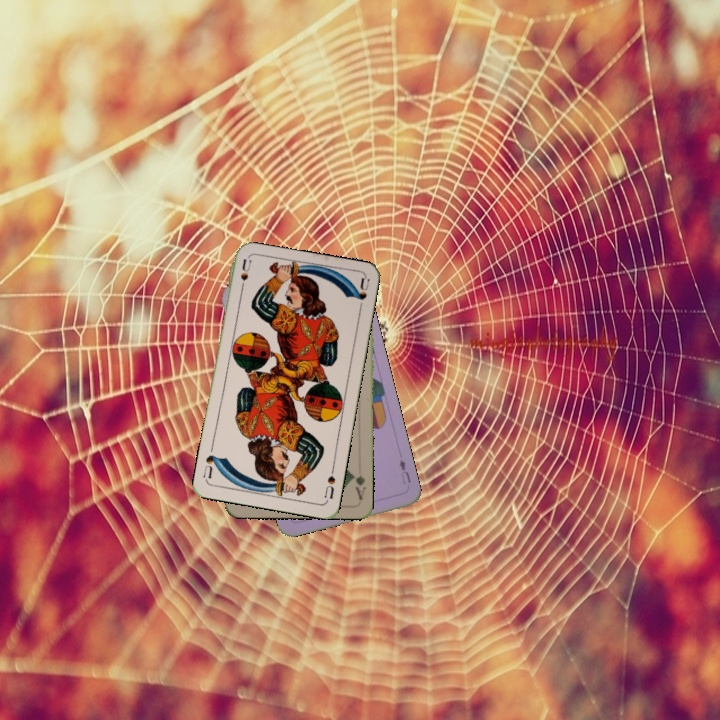EU: (395, 455, 413, 487)
GA: (349, 470, 368, 503)
SU: (236, 255, 254, 296), (320, 463, 338, 503)
